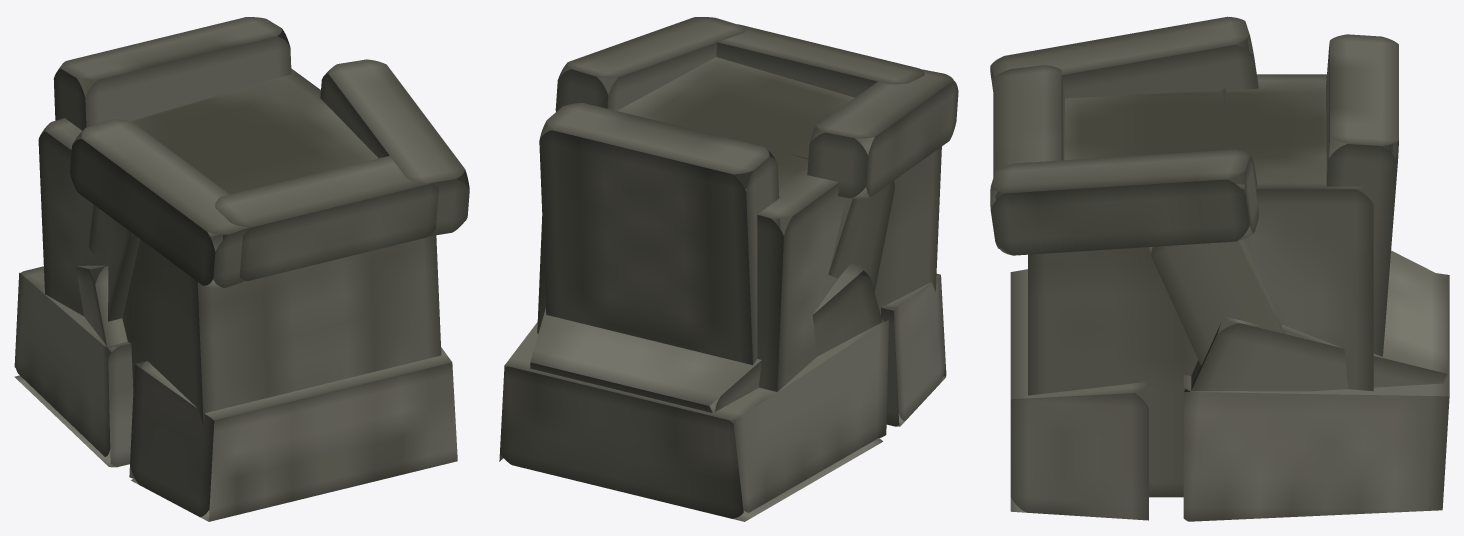
File: berserk_b_l.obj
3 renders of one model, left to right at view 1: azimuth 30°, elevation 25°; view 2: azimuth 150°, elevation 25°; view 3: azimuth 270°, elevation 25°, orthographic. The views are drawn at different scales.
Parts seen in each view (by area): view 1: cube; view 2: cube; view 3: cube.
Part boxes in pixels (bbox=[...]): cube: bbox=[14, 17, 469, 521]; cube: bbox=[499, 17, 958, 521]; cube: bbox=[990, 16, 1449, 521].
Size of the model in its own units: 0.3519 by 0.3566 by 0.4171.
